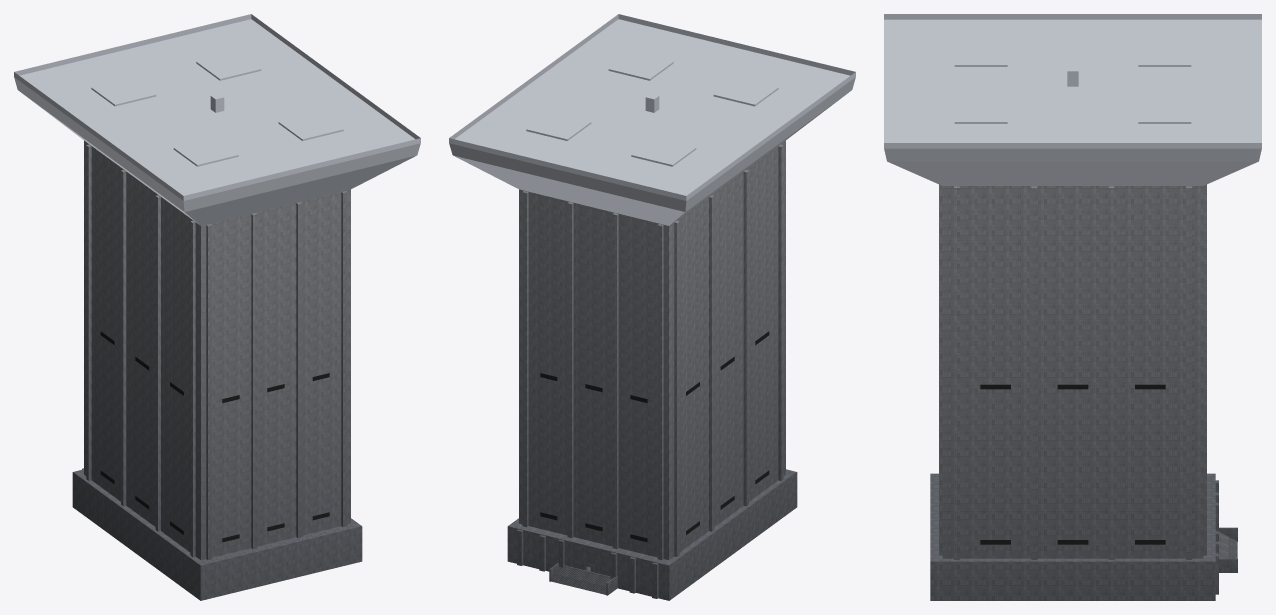
Rendered from lapd-low.glb.
The picture shows the model from 3 angles, left to right: view 1: azimuth 30°, elevation 25°; view 2: azimuth 150°, elevation 25°; view 3: azimuth 270°, elevation 25°; orthographic projection. The views are drawn at different scales.
Parts seen in each view (by area): view 1: solid-0, crown, glass-detail; view 2: solid-0, crown, glass-detail; view 3: solid-0, crown, glass-detail.
Part boxes in pixels (x1=…): solid-0: x1=72, y1=140, x2=362, y2=600; crown: x1=14, y1=14, x2=420, y2=225; glass-detail: x1=100, y1=331, x2=329, y2=542; solid-0: x1=507, y1=140, x2=797, y2=600; crown: x1=449, y1=14, x2=855, y2=225; glass-detail: x1=540, y1=331, x2=769, y2=542; solid-0: x1=930, y1=184, x2=1237, y2=600; crown: x1=884, y1=14, x2=1261, y2=185; glass-detail: x1=980, y1=384, x2=1165, y2=544.
Size of the model in its own units: 126 by 223 by 156.
3 materials, 1 textured.
